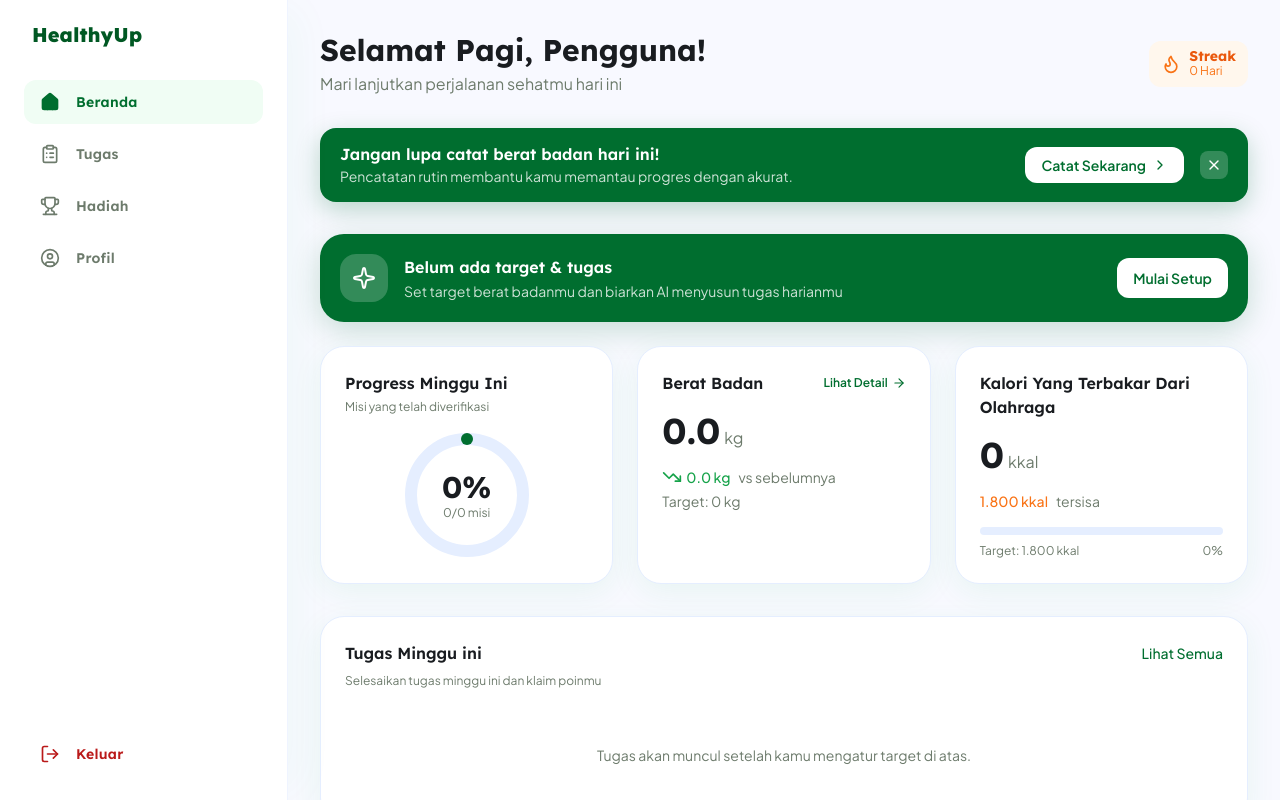
Test: Dashboard Page › menutup modal berat badan saat tombol Batal diklik
Step 1. Click the button "Catat Sekarang" → (1105,165), box x1=1025 y1=147 x2=1184 y2=183
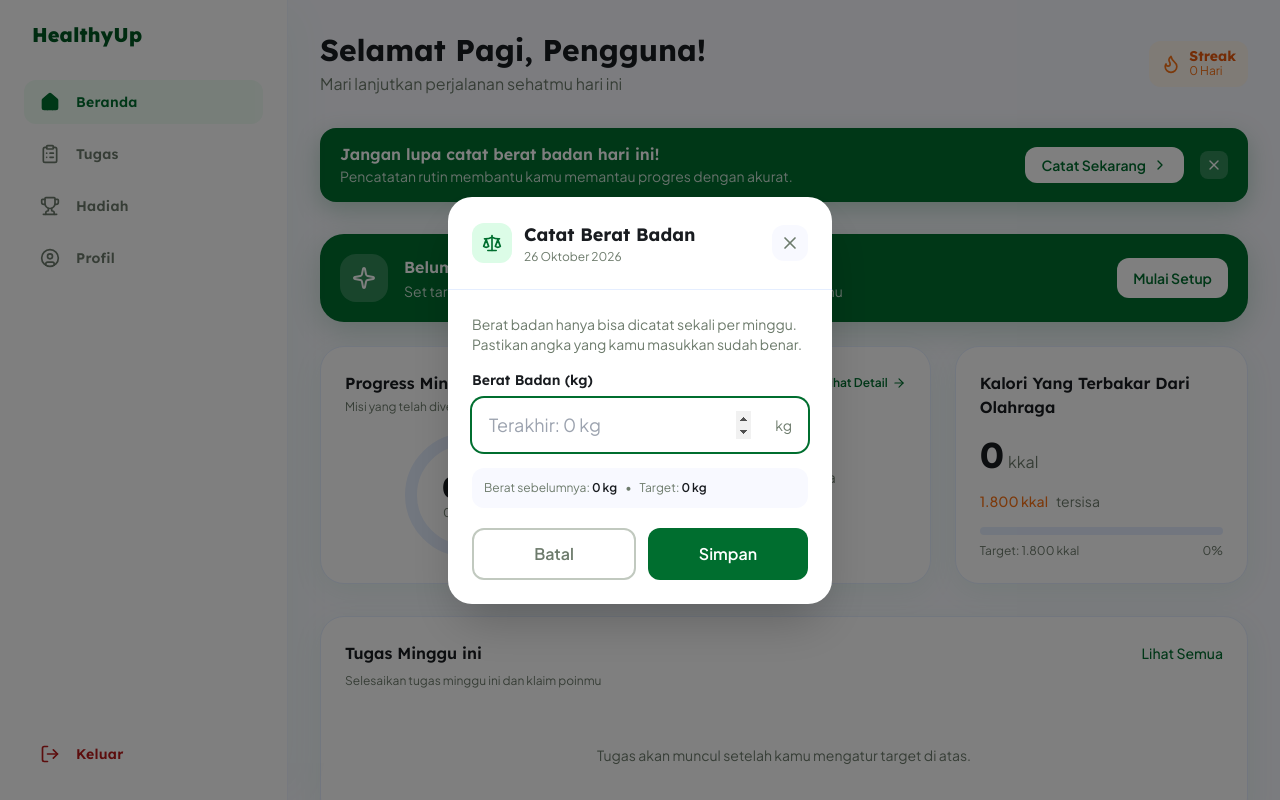
Result: the dialog is shown
Step 2. Click the button "Batal" → (554,554), box x1=472 y1=528 x2=636 y2=580
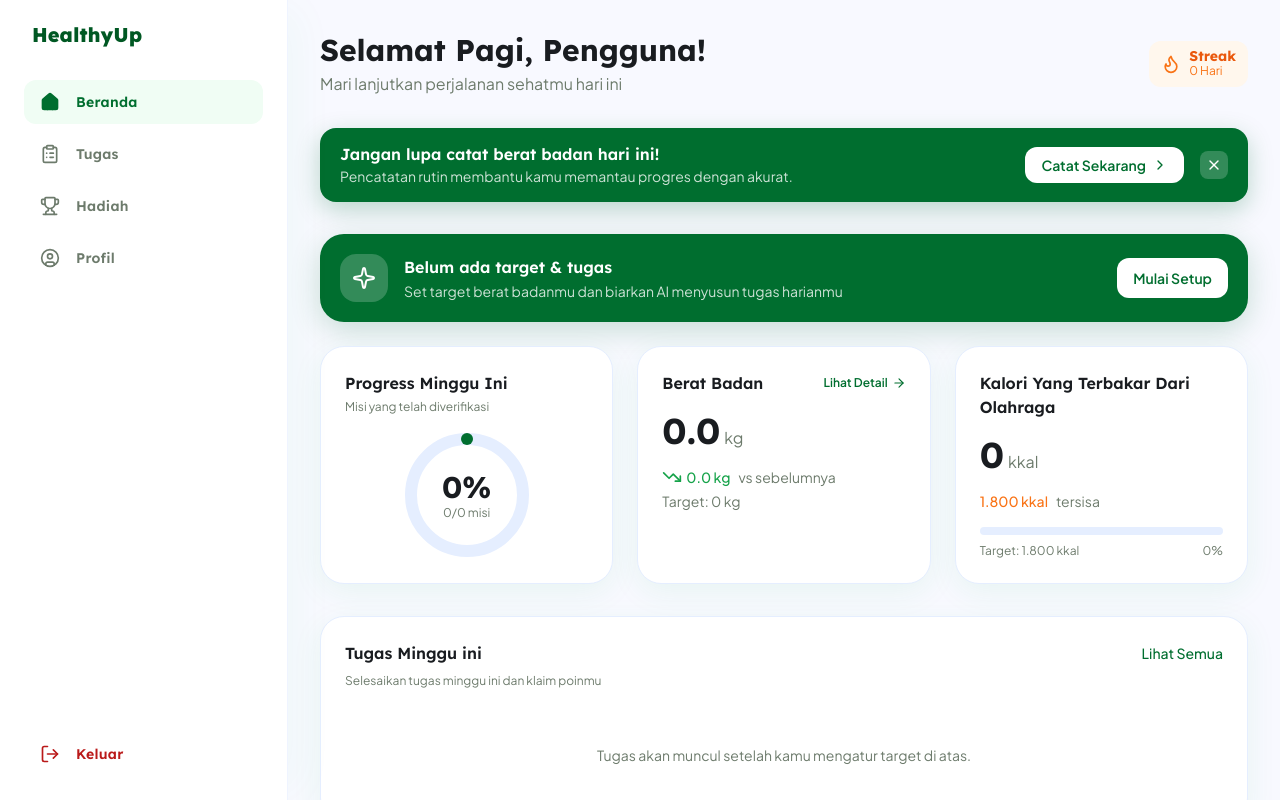
Result: the dialog is gone
